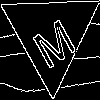M: (26, 9, 79, 71)
